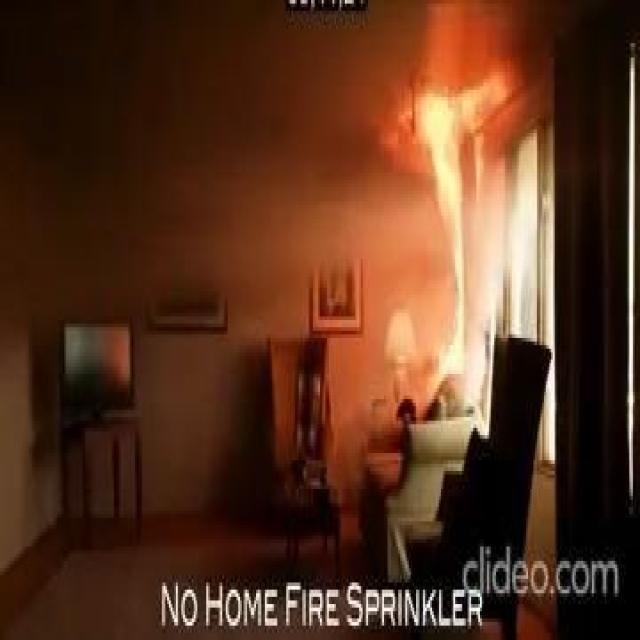smoke: (414, 90, 462, 374), (458, 72, 508, 137)
